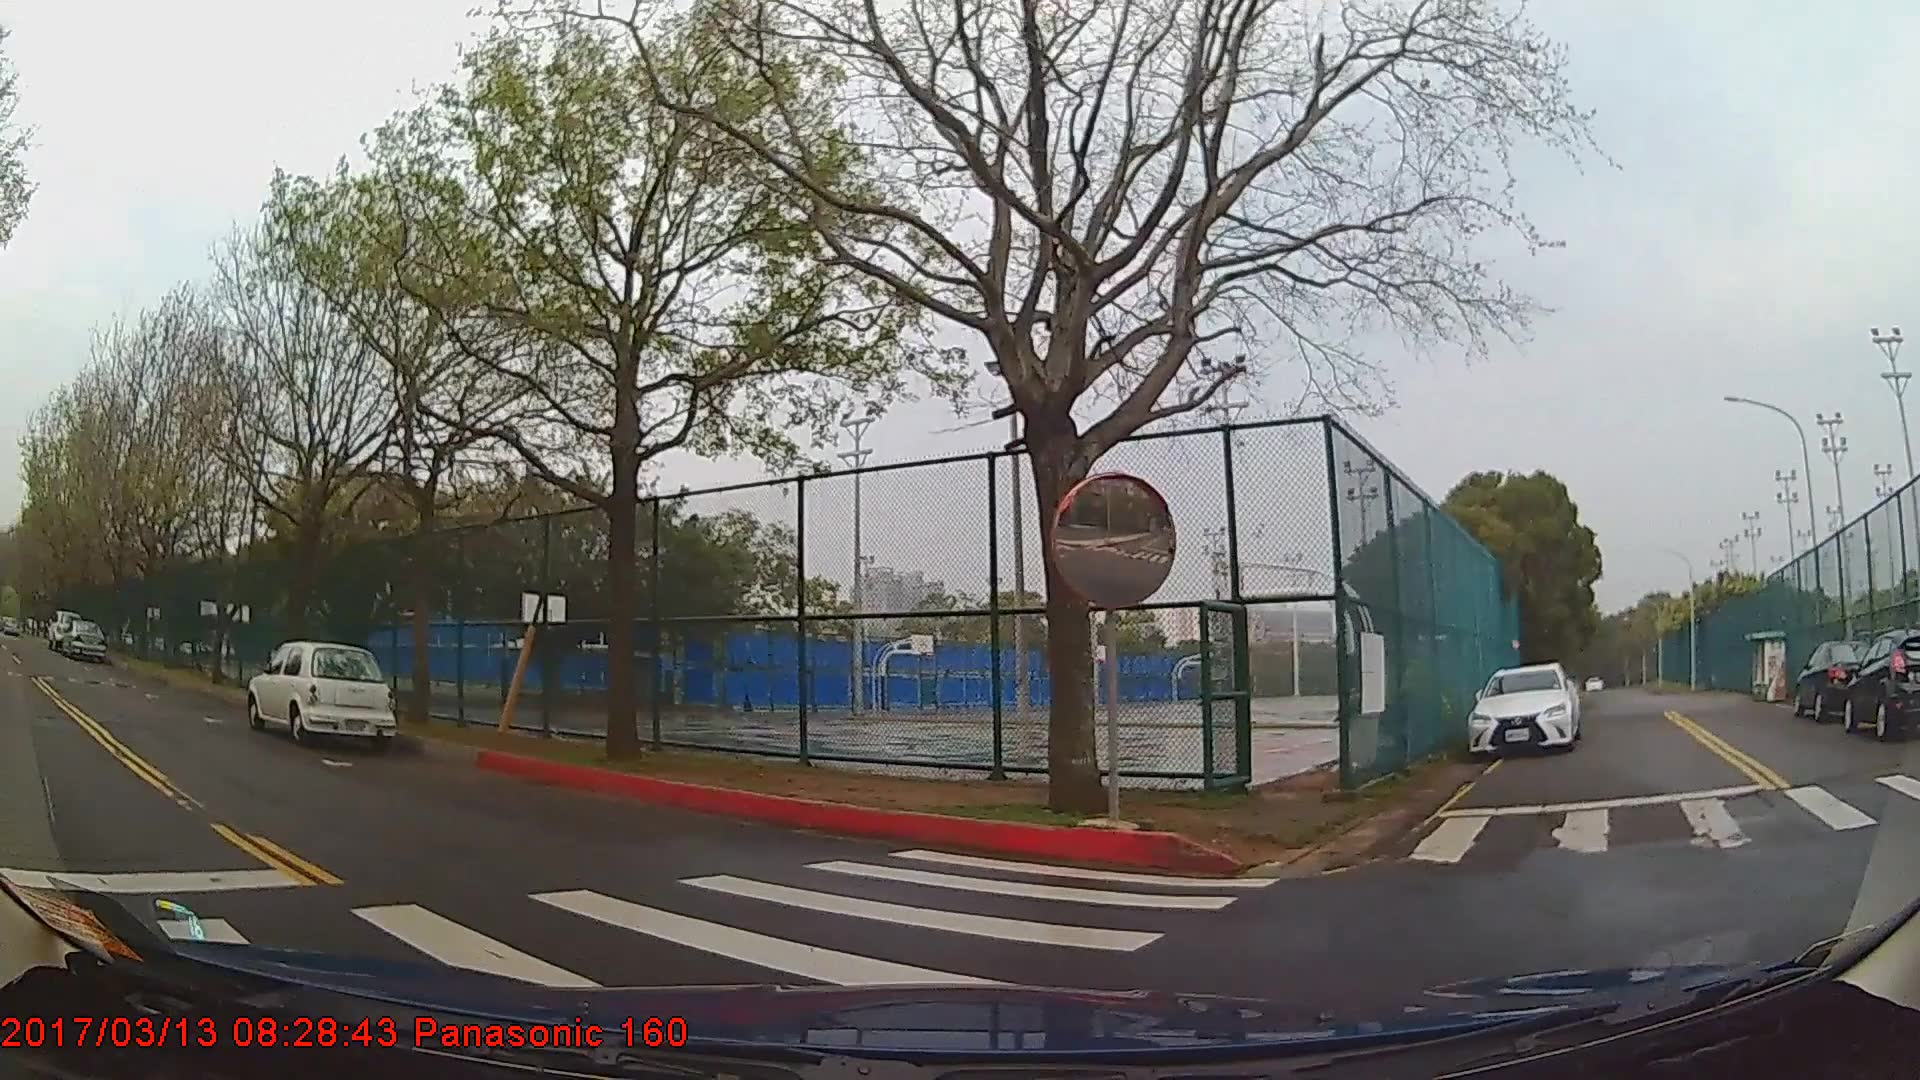vehicle: (244, 636, 397, 738), (1464, 659, 1580, 754), (1840, 628, 1920, 740), (1791, 634, 1880, 717), (58, 617, 105, 661)
